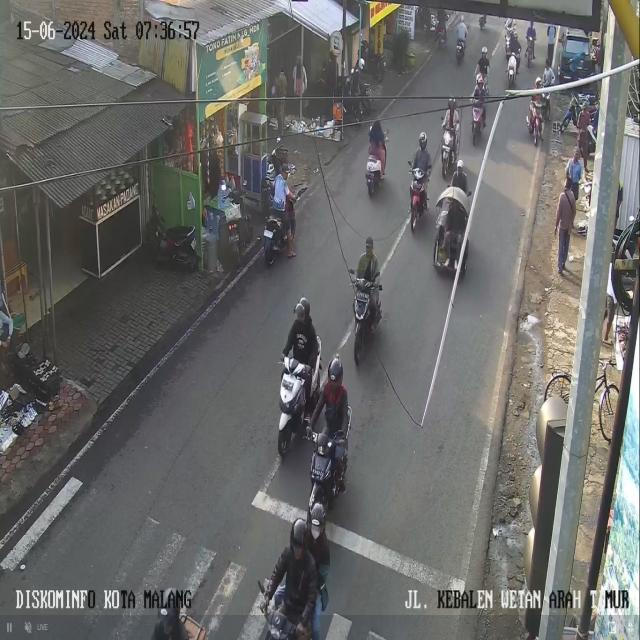Helmet: (159, 589, 179, 624), (310, 502, 326, 539), (290, 518, 306, 549), (328, 355, 342, 383), (299, 296, 309, 317), (294, 302, 305, 320), (418, 131, 426, 148), (365, 236, 374, 249), (448, 97, 456, 108), (476, 73, 483, 84), (358, 58, 364, 70), (535, 77, 541, 87), (457, 159, 463, 169), (481, 46, 487, 54), (460, 15, 465, 23)
Number Plate: (356, 292, 368, 301), (263, 229, 272, 237), (191, 238, 195, 249)
